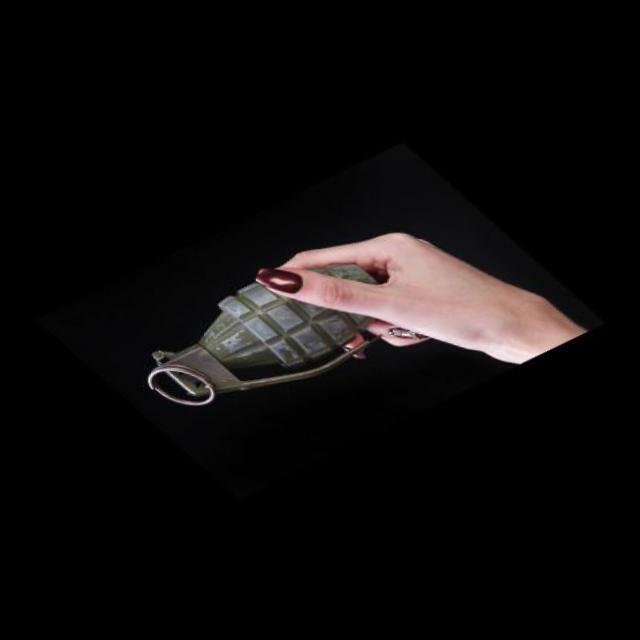grenade: (138, 219, 410, 436)
